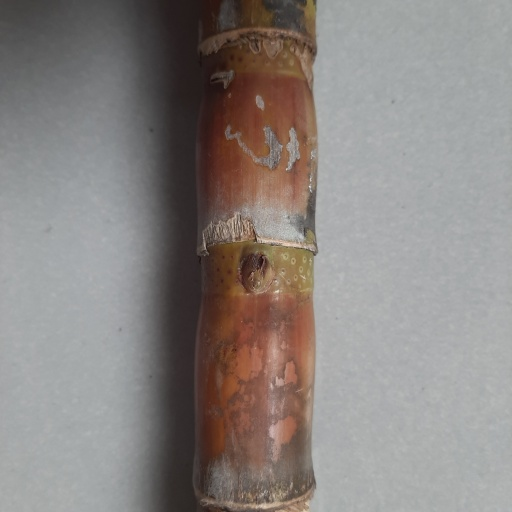Bud: (241, 251, 274, 294)
